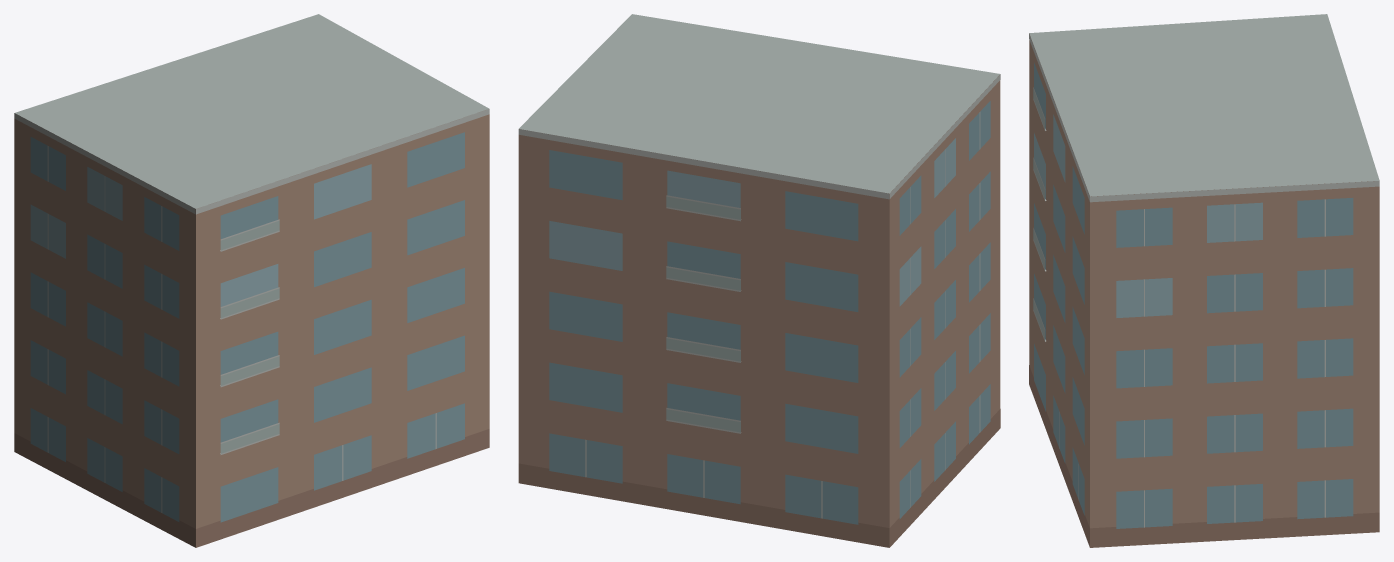
File: survey-upis-33046158.glb
The picture shows the model from 3 angles, left to right: view 1: azimuth 30°, elevation 25°; view 2: azimuth 150°, elevation 25°; view 3: azimuth 270°, elevation 25°; orthographic projection. The views are drawn at different scales.
Visible parts, largest first — view 1: survey-upis-33046158.tmp; view 2: survey-upis-33046158.tmp; view 3: survey-upis-33046158.tmp.
Boxes of the visible parts, box(x1,y1,x2,y2) form: survey-upis-33046158.tmp: box(14, 14, 489, 547); survey-upis-33046158.tmp: box(518, 14, 1000, 547); survey-upis-33046158.tmp: box(1029, 14, 1379, 547).
Bounding box in the file's own units: 16.49 × 14.8 × 13.39.
